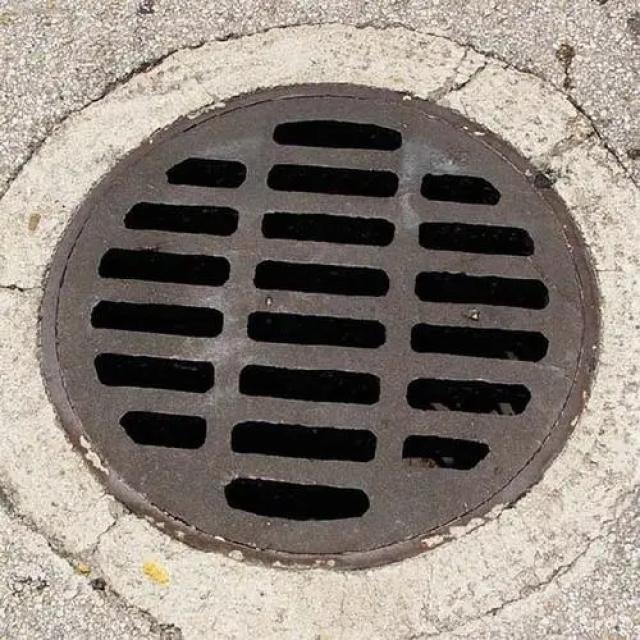manhole: (41, 84, 598, 567)
